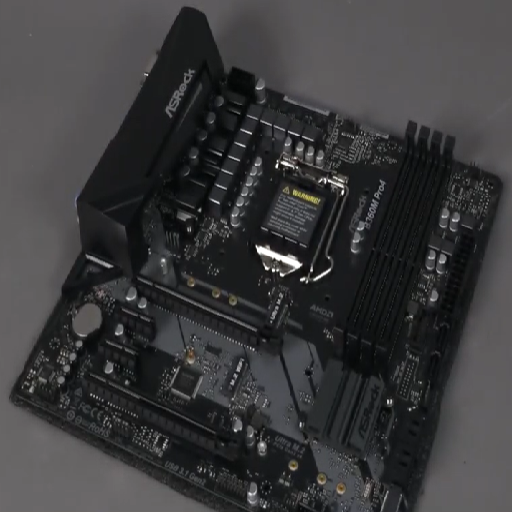CPU: (247, 138, 354, 294)
GPU: (82, 364, 246, 467), (130, 274, 278, 356)
MOTHERBOARD: (5, 5, 502, 512)
RAM: (334, 121, 460, 369)
SSD: (259, 288, 298, 333), (220, 354, 252, 403)
